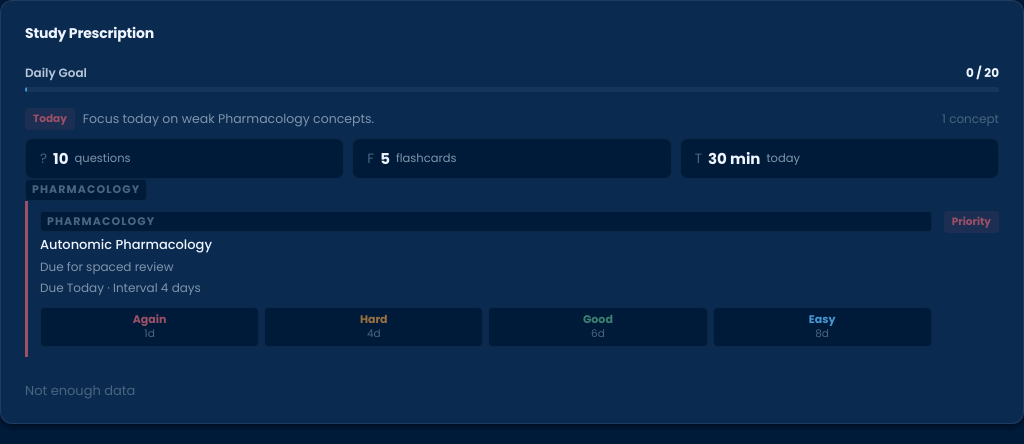
StudyPrescriptionPanel — review analytics (Phase 5.5) › shows session complete strip after all items are dismissed
This screenshot has width=1024, height=444.
Click the button "Good 6d".
click(598, 327)  # box [488,307,708,347]
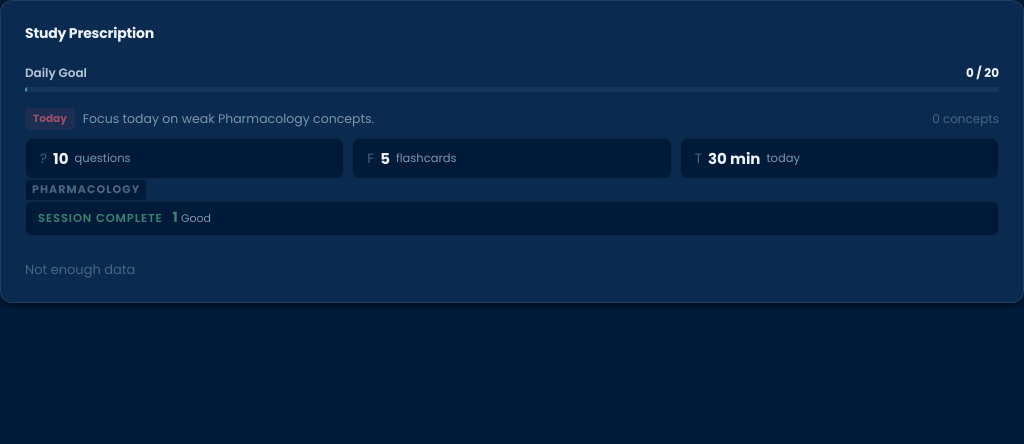
Now the text "Session complete" is shown, box [38,210,163,227]
